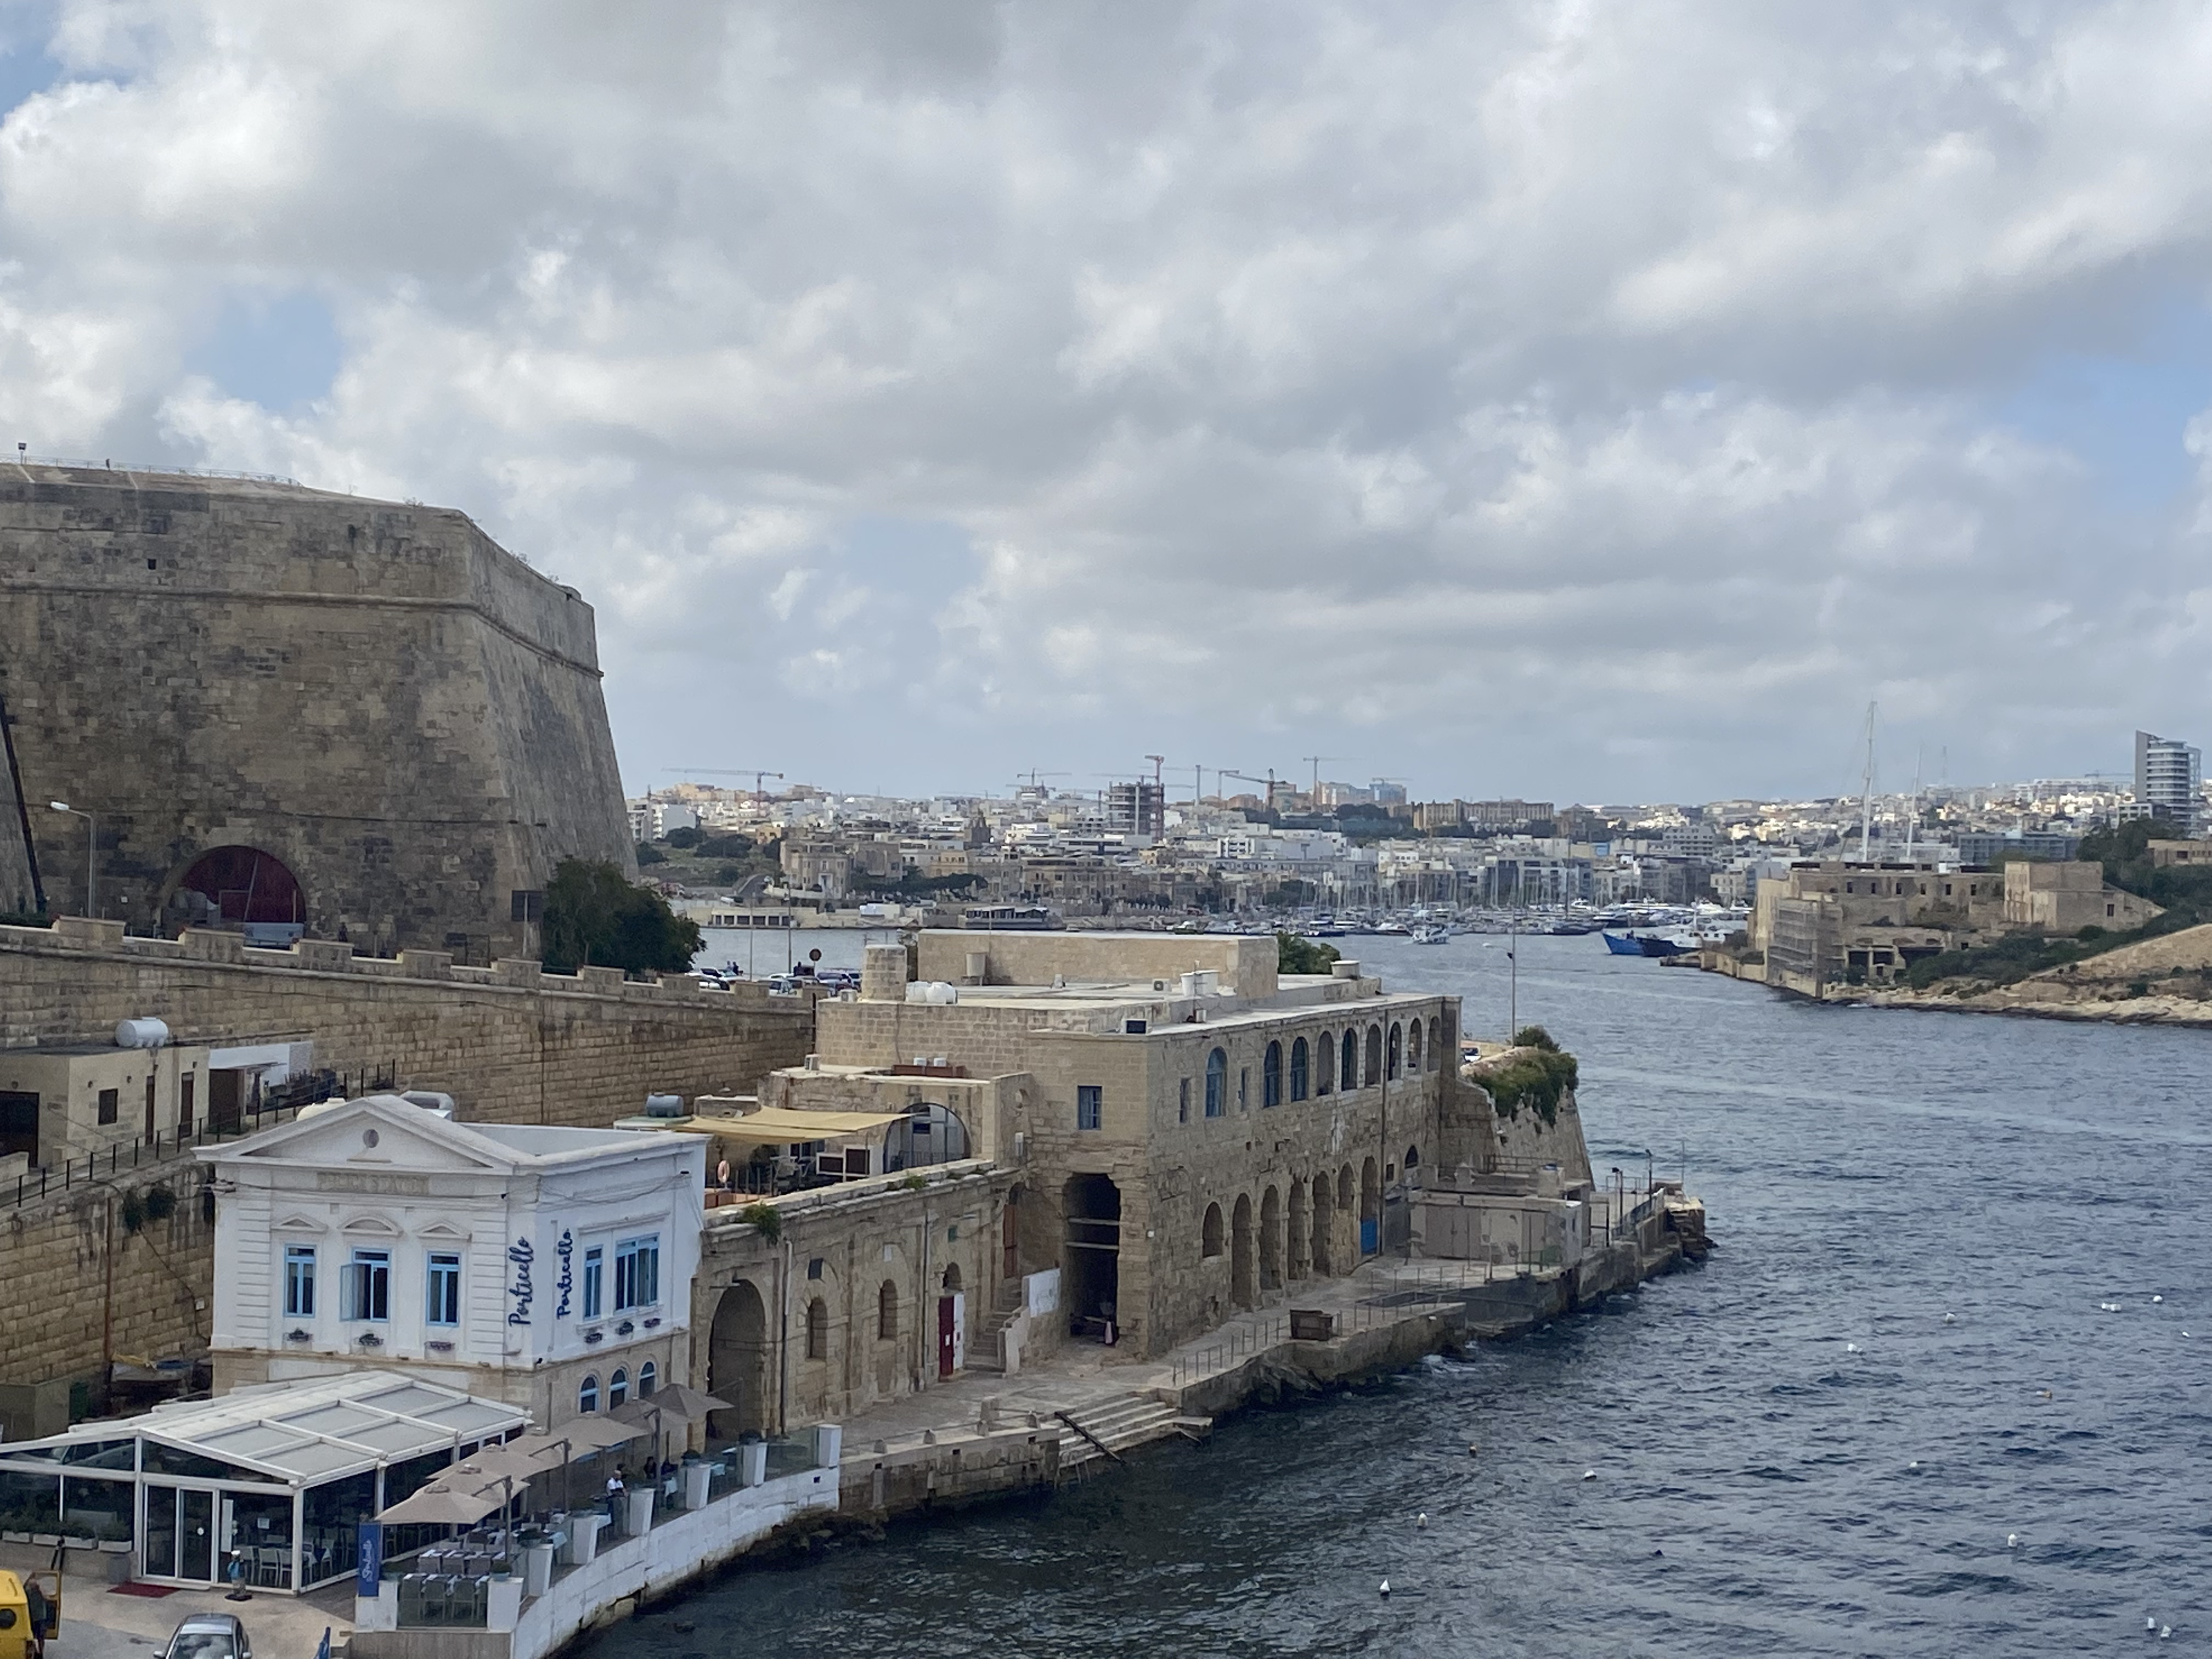crane: (627, 753, 792, 793)
